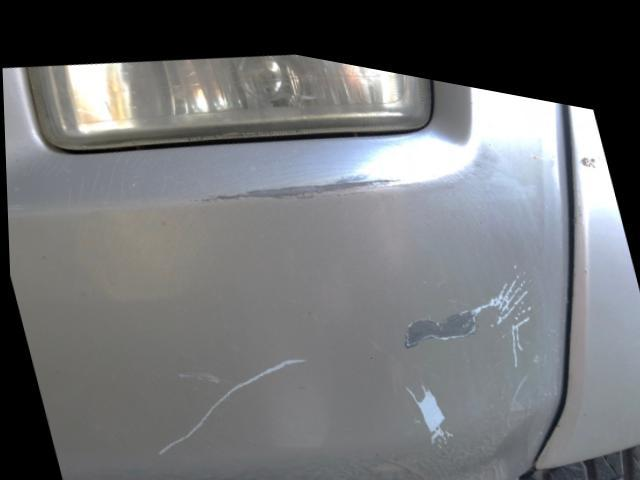scratch: (150, 343, 308, 453), (395, 241, 536, 350), (196, 157, 403, 196)
